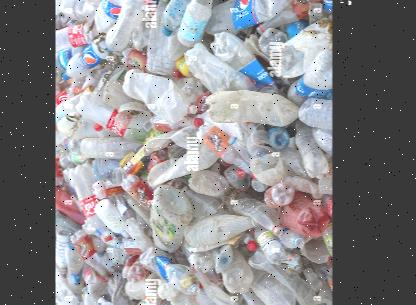Plastic Bottle: (68, 160, 112, 241), (196, 120, 258, 177), (140, 244, 202, 292), (162, 0, 229, 34), (250, 265, 302, 305), (70, 228, 110, 279), (62, 35, 107, 80), (176, 0, 212, 46), (95, 0, 136, 32), (83, 285, 117, 305)
